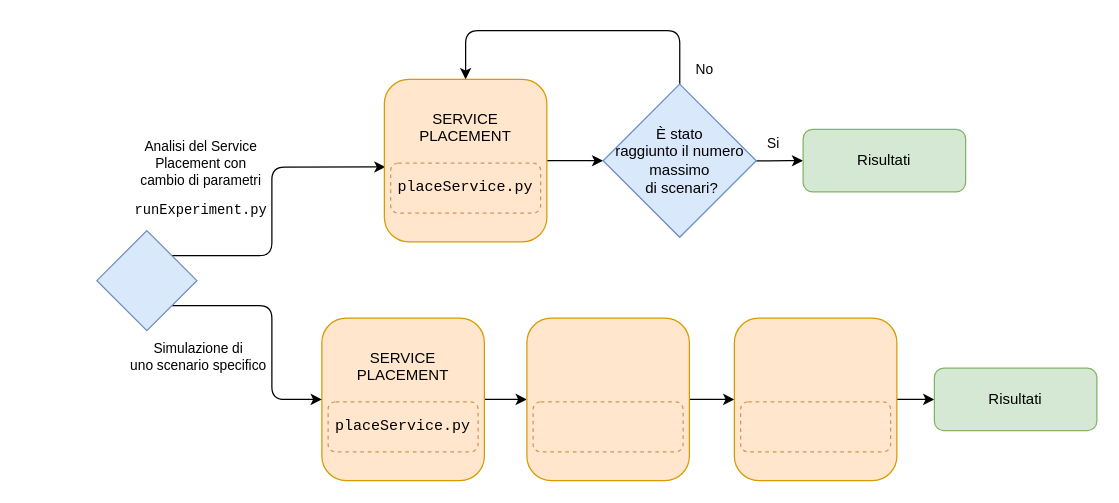
The diagram is 1119 pixels wide and 503 high, and some of its shapes have lost their labels. Each missing label, with the box of its shape:
RESULT ANALYSIS analyseResults.py: (733, 317, 897, 481)
SIMULATION RUNNING ( YAFS ) runSimulation.py: (526, 317, 689, 481)
Tipo di Analisi: (96, 229, 197, 331)
